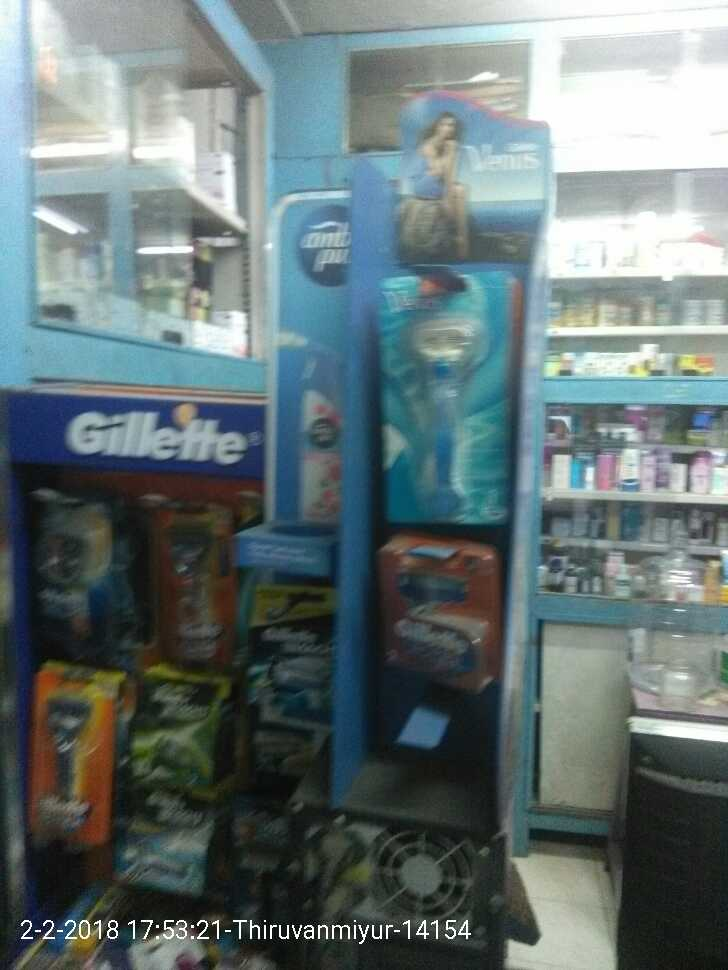beauty: (370, 272, 507, 518), (376, 535, 495, 697), (135, 479, 238, 666), (27, 663, 107, 853), (238, 581, 323, 722), (130, 676, 219, 797), (541, 279, 549, 281)
